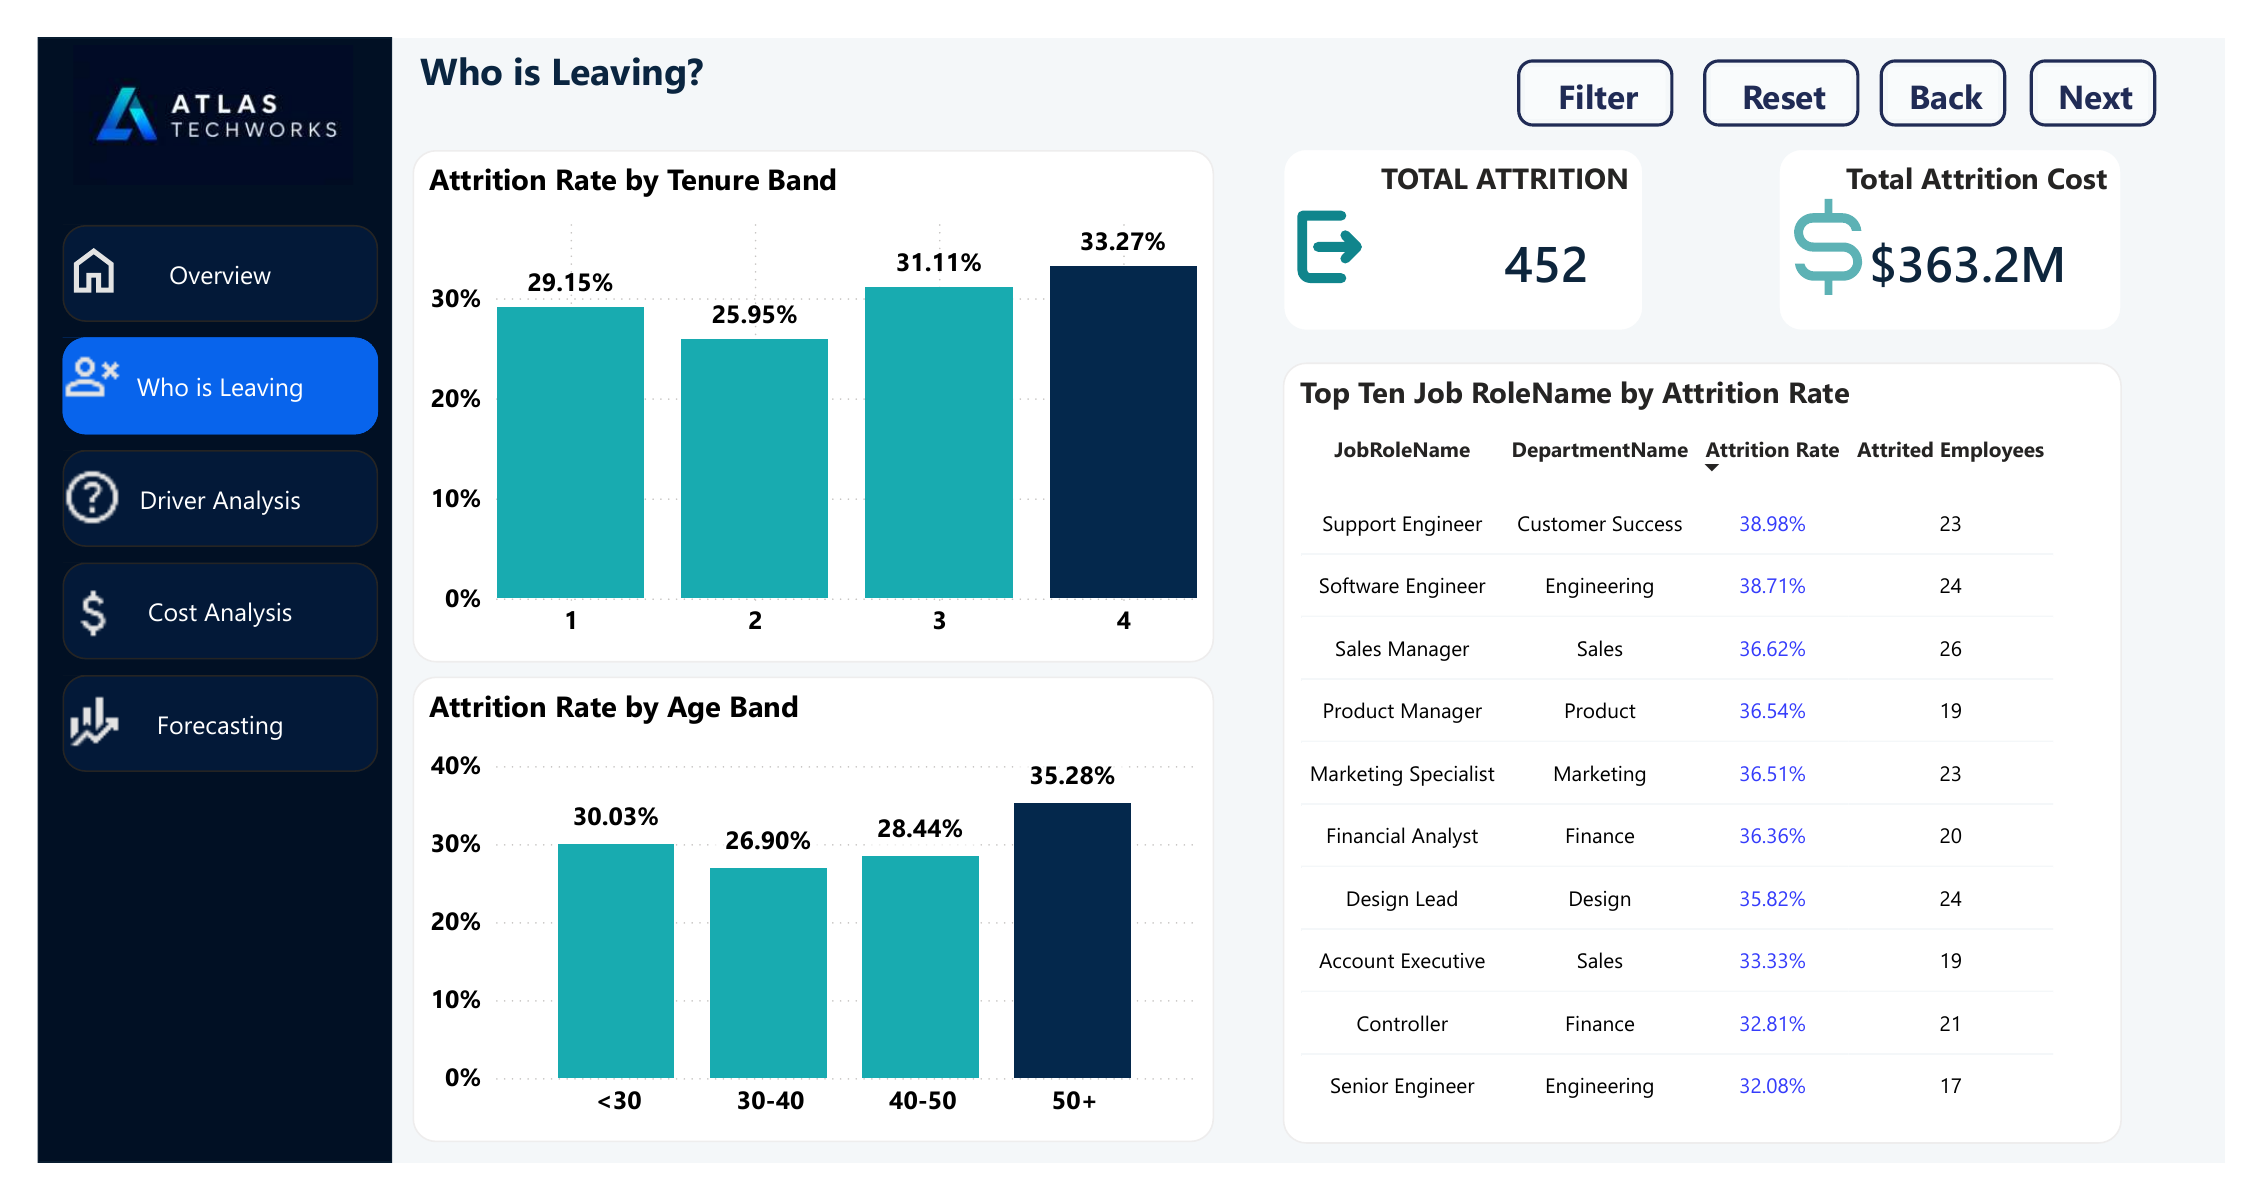

The dashboard page shown, as its layout file describes it:
{"tool":"powerbi","page":{"name":"   Who is Leaving","canvas":[1400,720],"ordinal":21},"visuals":[{"type":"shape","box":[0,0,226.7,720],"z":0,"group":"g2"},{"type":"shape","box":[226.7,0,1053.3,72.2],"z":0},{"type":"actionButton","box":[1275,14,81,43],"z":0,"group":"g1"},{"type":"textbox","box":[240,0,358.9,50],"z":1000},{"type":"image","box":[23,3,179,93],"z":1000,"group":"g2"},{"type":"actionButton","box":[1179,14,81,43],"z":1000,"group":"g1"},{"type":"actionButton","box":[1066,14,100,43],"z":2000,"group":"g1"},{"type":"pageNavigator","box":[15.6,120,202.2,351.1],"z":2000,"group":"g2"},{"type":"tableEx","title":"Top Ten  Job RoleName  by Attrition Rate ","fields":{"Values":["DimJobRole.JobRoleName","DimDepartment.DepartmentName","All Dax.Attrition Rate","All Dax.Attrited"]},"box":[797,208,537,500],"z":2000},{"type":"clusteredColumnChart","title":"Attrition Rate by Tenure Band","fields":{"Y":["All Dax.Attrition Rate"],"Category":["DimTenureBand.Tenure Band Score"]},"box":[240,72,513,328],"z":3000},{"type":"lineClusteredColumnComboChart","title":"Attrition Rate by Age Band","fields":{"Category":["DimAgeBand.Band"],"Y":["All Dax.Attrition Rate"]},"box":[240,409,513,298],"z":4000},{"type":"group","id":"g1","title":"Group 2","box":[1066,14,290,43],"z":5000},{"type":"group","id":"g2","title":"Group 1","box":[0,0,226,720],"z":6000},{"type":"image","box":[15,130,41.2,37.5],"z":7000},{"type":"image","box":[15,198.8,41.2,37.5],"z":8000},{"type":"image","box":[15,275,41.2,38.8],"z":9000},{"type":"image","box":[15,350,41.2,37.5],"z":10000},{"type":"image","box":[15,420,41.2,37.5],"z":11000},{"type":"cardVisual","title":"TOTAL ATTRITION","fields":{"Data":["All Dax.Attrited"]},"box":[797.2,70.9,230.7,116.7],"z":12000},{"type":"cardVisual","title":"Total Attrition Cost ","fields":{"Data":["All Dax.Total Annual Attrition Cost"]},"box":[1114,71,220,117],"z":13000},{"type":"image","box":[797.3,96.1,59.9,74.9],"z":14000},{"type":"image","box":[1114.3,98.6,63.6,69.9],"z":15000},{"type":"actionButton","title":"Filter","box":[947,14,100,43],"z":19000}]}

Visuals, with their boxes on the page's 1400x720 design canvas (x1, y1, x2, y2). These are canvas units, not pixel positions in the 2263x1200 screenshot, which may show the page scaled, cropped or inside an application window:
shape: 0,0,227,720
shape: 227,0,1280,72
actionButton: 1275,14,1356,57
textbox: 240,0,599,50
image: 23,3,202,96
actionButton: 1179,14,1260,57
actionButton: 1066,14,1166,57
pageNavigator: 16,120,218,471
"Top Ten  Job RoleName  by Attrition Rate " tableEx: 797,208,1334,708
"Attrition Rate by Tenure Band" clusteredColumnChart: 240,72,753,400
"Attrition Rate by Age Band" lineClusteredColumnComboChart: 240,409,753,707
"Group 2" group: 1066,14,1356,57
"Group 1" group: 0,0,226,720
image: 15,130,56,168
image: 15,199,56,236
image: 15,275,56,314
image: 15,350,56,388
image: 15,420,56,458
"TOTAL ATTRITION" cardVisual: 797,71,1028,188
"Total Attrition Cost " cardVisual: 1114,71,1334,188
image: 797,96,857,171
image: 1114,99,1178,168
"Filter" actionButton: 947,14,1047,57
